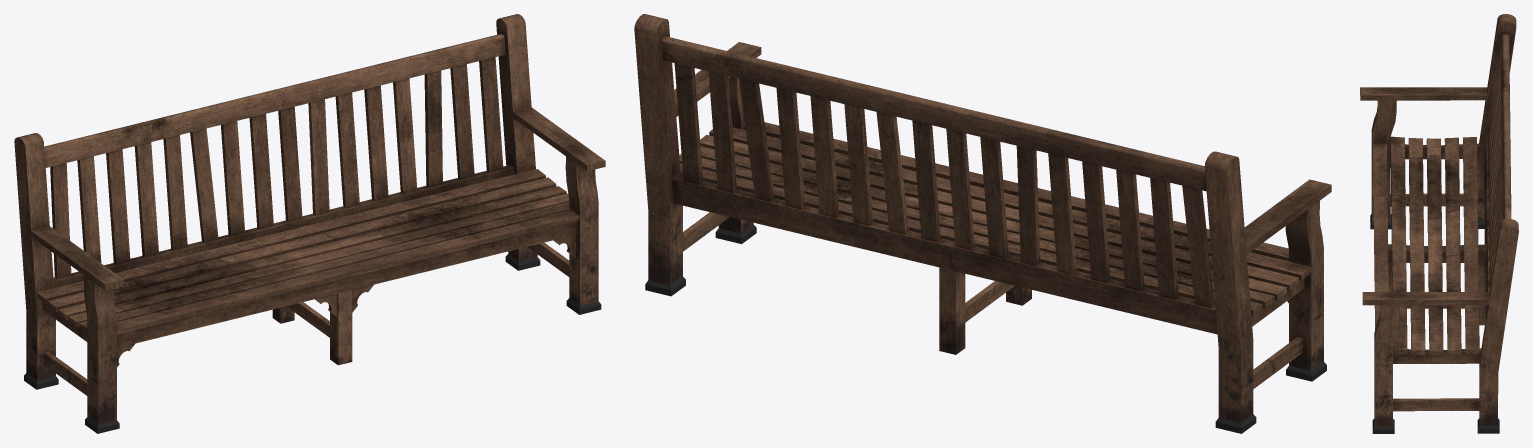
The model's file is bench.glb.
The picture shows the model from 3 angles, left to right: view 1: azimuth 30°, elevation 25°; view 2: azimuth 150°, elevation 25°; view 3: azimuth 270°, elevation 25°; orthographic projection. The views are drawn at different scales.
Visible parts, largest first — view 1: Bench_Bench Mat_0; view 2: Bench_Bench Mat_0; view 3: Bench_Bench Mat_0.
Boxes of the visible parts, bbox=[...] form: Bench_Bench Mat_0: bbox=[14, 14, 605, 433]; Bench_Bench Mat_0: bbox=[634, 14, 1331, 433]; Bench_Bench Mat_0: bbox=[1360, 14, 1518, 433].
Size of the model in its own units: 1.89 by 0.85 by 0.5926.
Materials: 1 (1 with a texture image).
